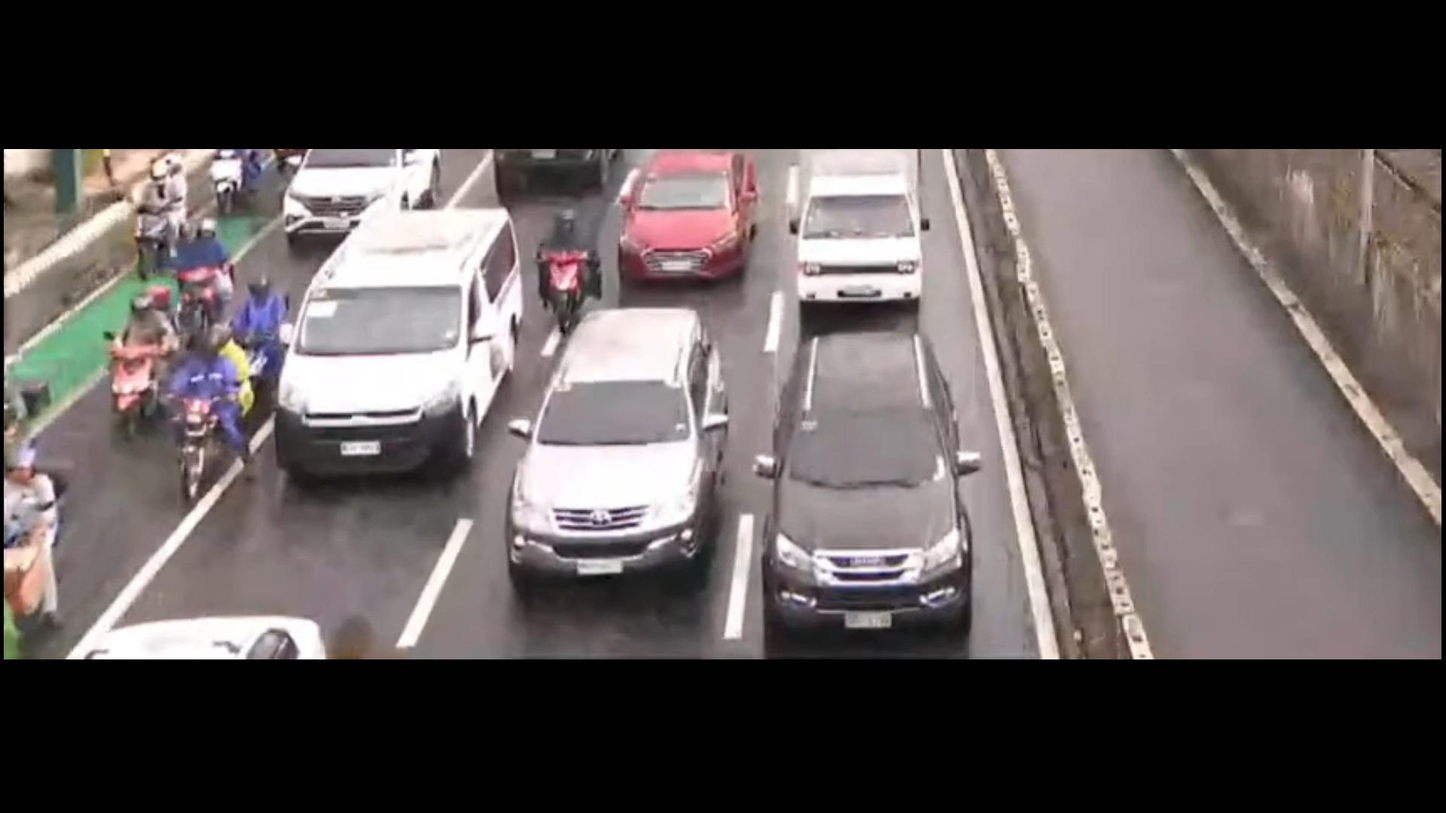Motorcycle: (149, 362, 250, 512), (147, 224, 262, 343), (522, 209, 614, 328), (222, 285, 302, 413), (108, 157, 183, 286), (110, 300, 180, 422), (209, 149, 260, 206)
SUV: (460, 298, 750, 607), (753, 313, 991, 634)
Sedan: (622, 154, 763, 294)
Truck: (780, 148, 938, 328)
Van: (257, 207, 531, 494)
